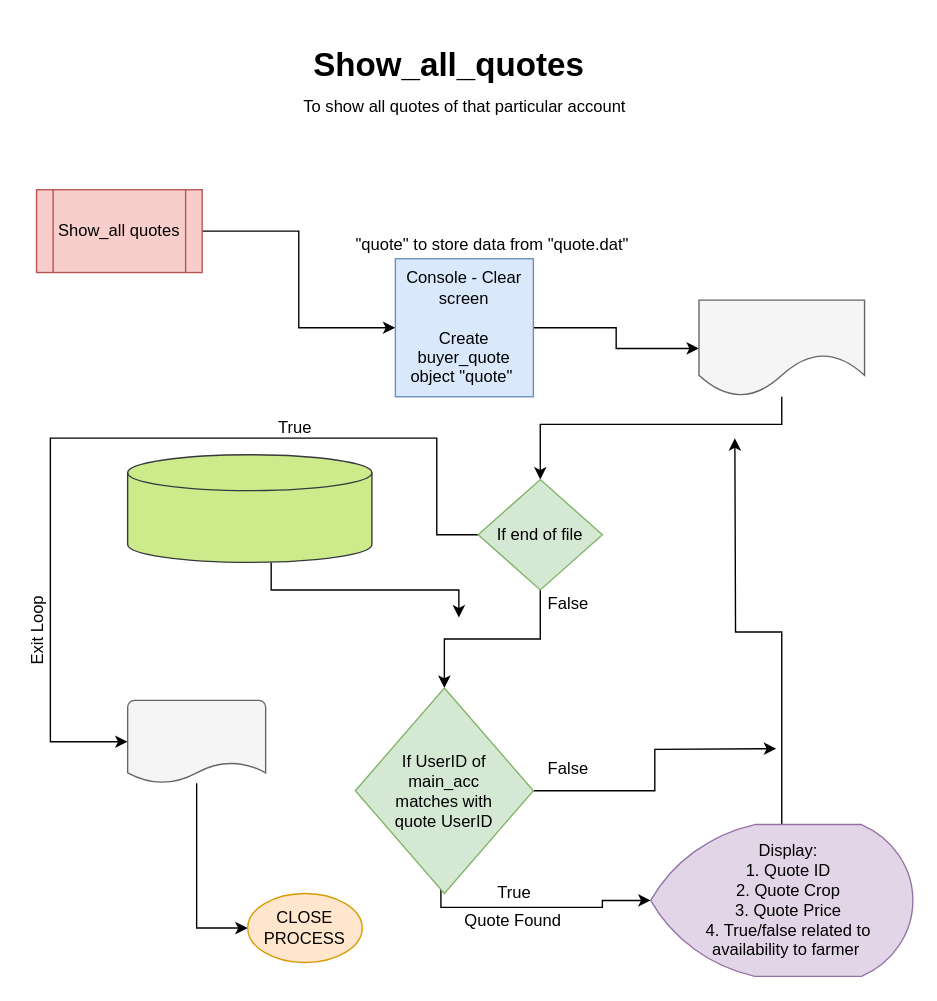
The diagram is 937 pixels wide and 1001 high, and some of its shapes have lost their labels. Each missing label, with the box of its shape:
Close "quote.dat": (126, 699, 266, 783)
Open "quote.dat": (698, 299, 865, 397)
Read data from "quote.dat" to object "quote": (126, 453, 372, 562)
